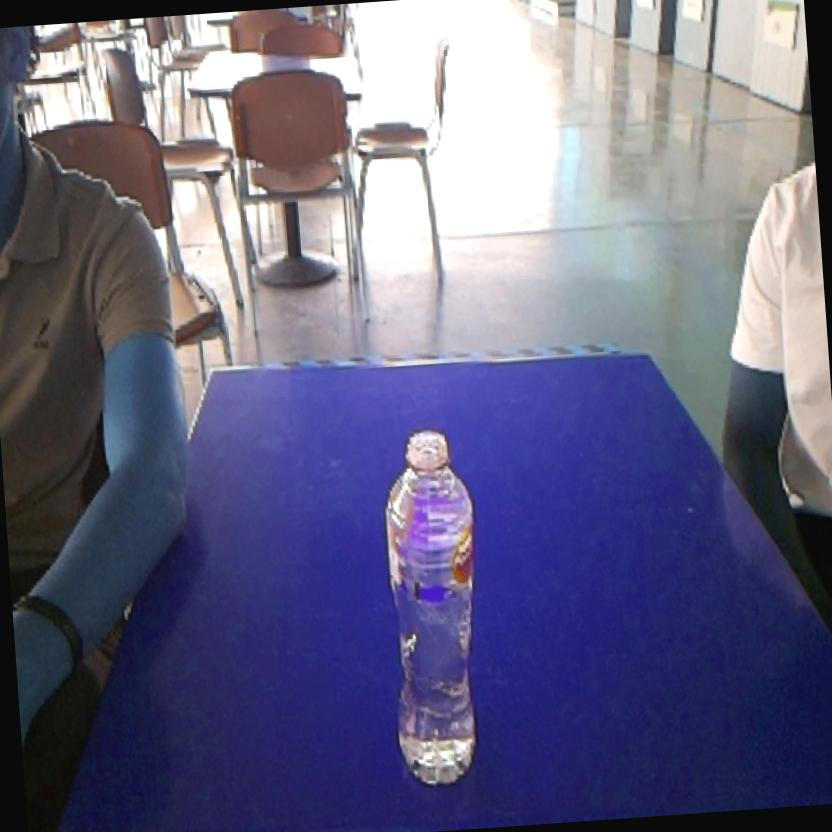no_cap: (367, 416, 498, 798)
